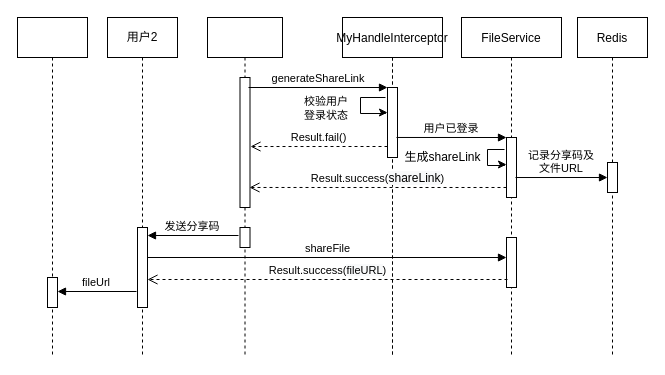
Image size: 665x375. Some labels were removed from this diagram. The shapes that lost their labels are listed below. From the top down, each one's box as (x1, y1, x2, y2) in pixels, then its label:
(16, 16, 88, 358): 浏览器
(206, 16, 282, 358): 用户1
